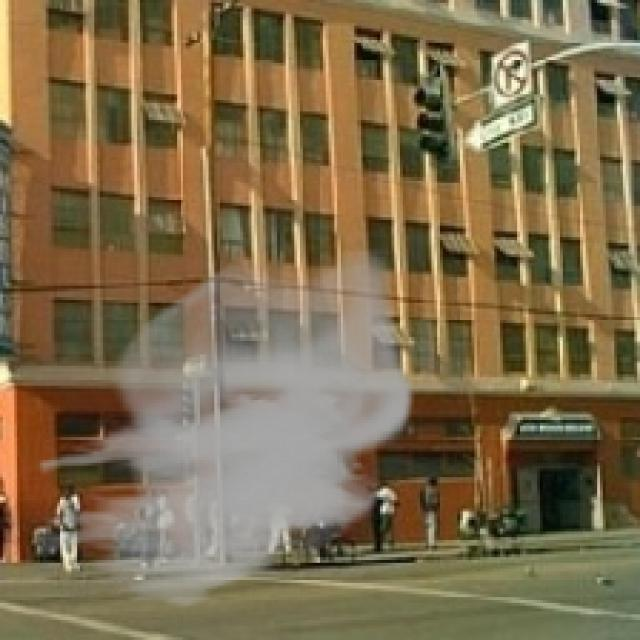Smoke: (37, 248, 414, 612)
